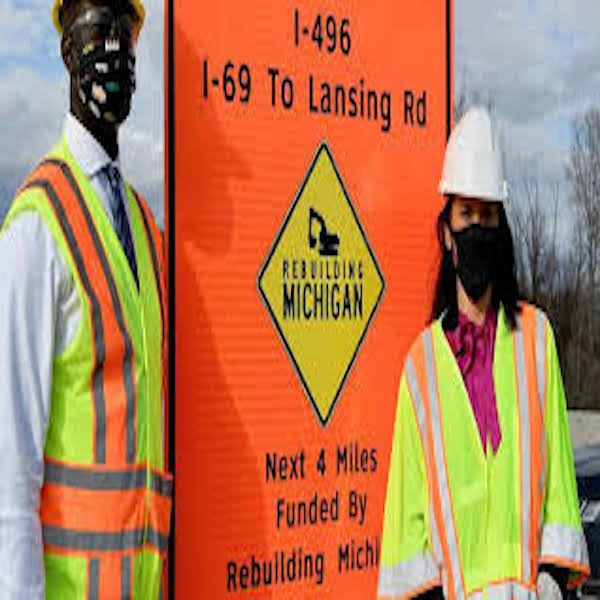helmet: (441, 106, 513, 199)
vest: (36, 188, 171, 600), (392, 306, 567, 600)
